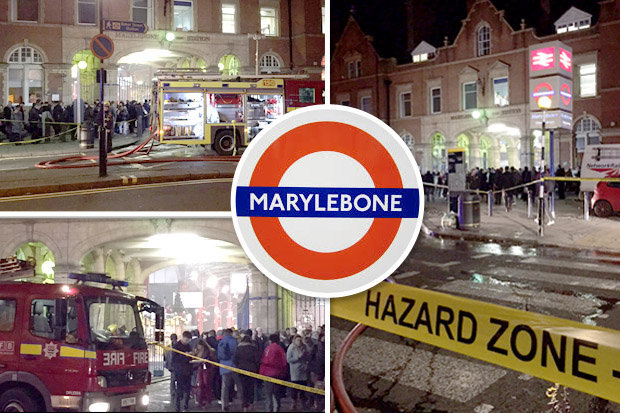London Underground: (237, 101, 421, 303)
